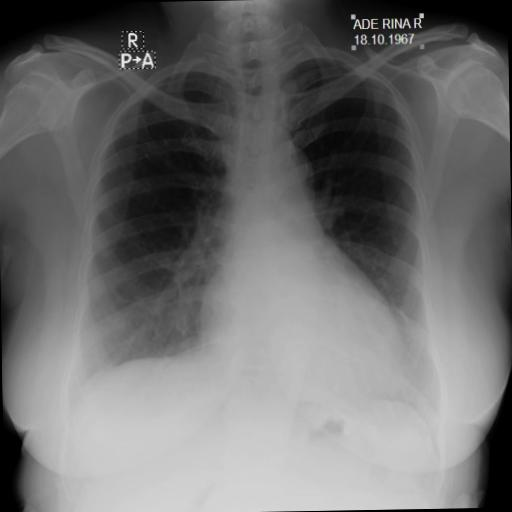kardiomegali: (47, 36, 448, 450)
